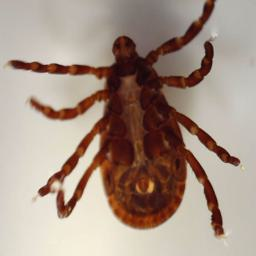Dermacentor variabilis: (21, 37, 236, 243)
